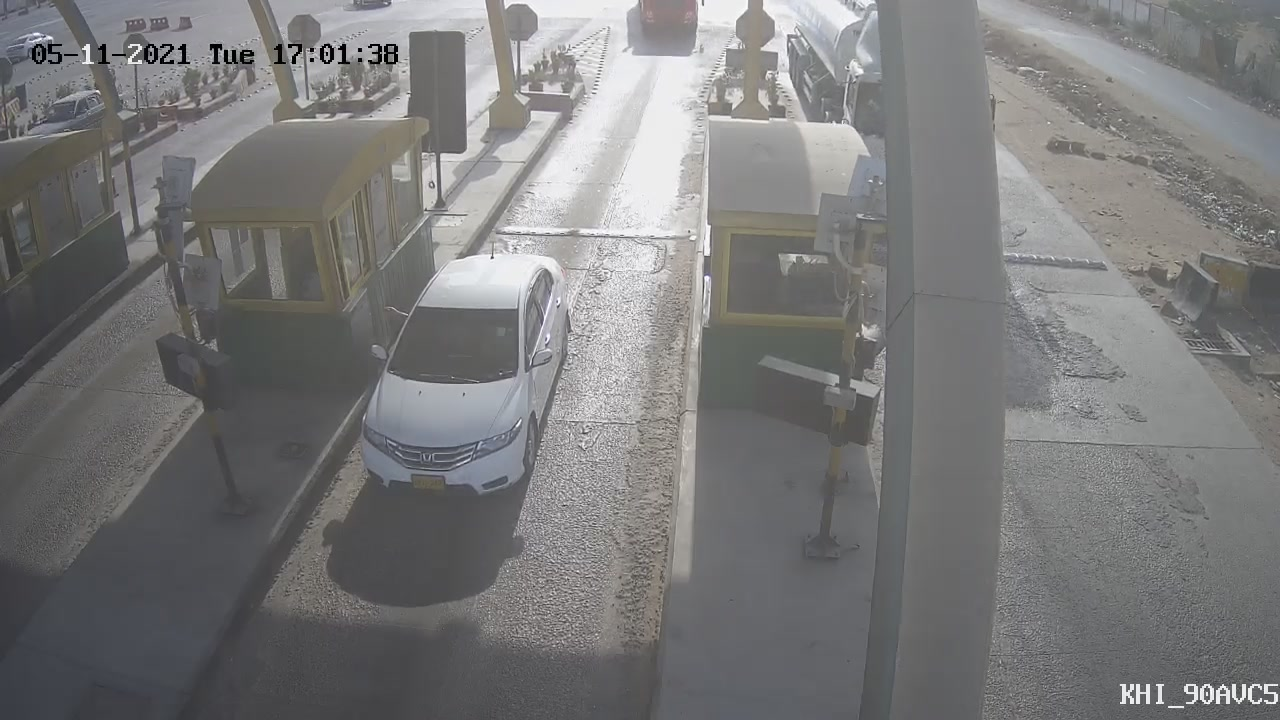F1: (329, 224, 591, 524)
